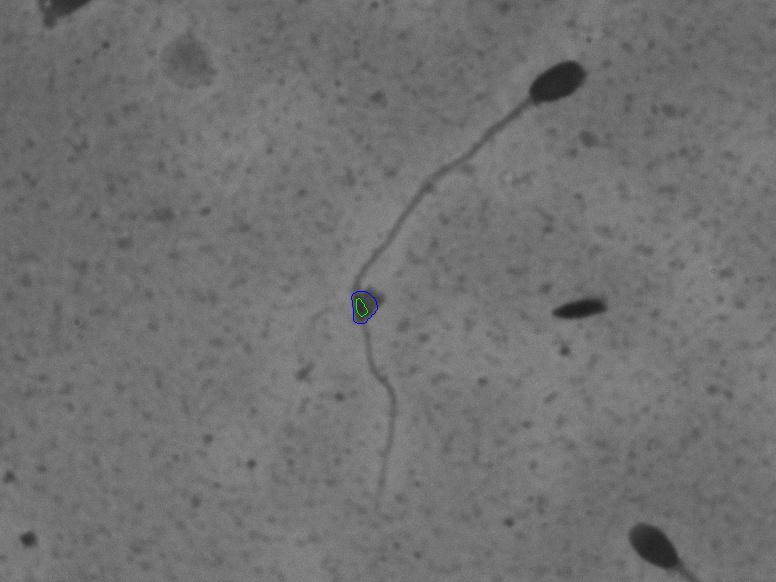Abnormal: (265, 36, 599, 514)
